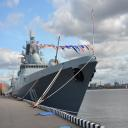Fragata: (14, 29, 100, 126)
